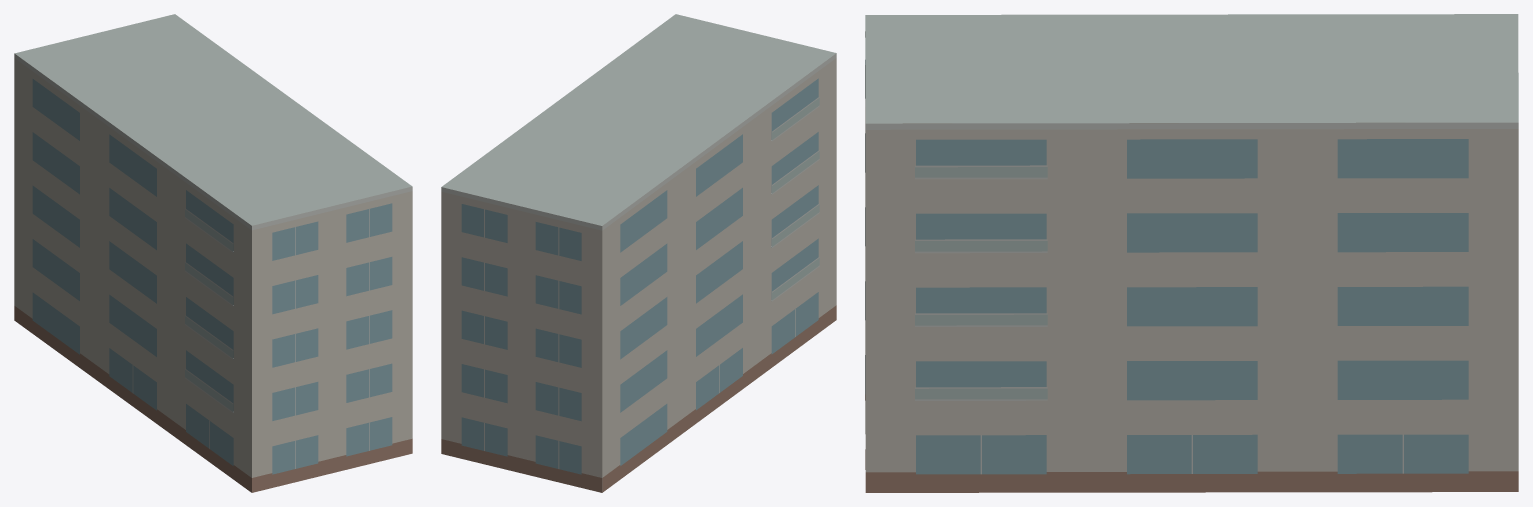
Rendered from survey-upis-32631381.glb.
3 renders of one model, left to right at view 1: azimuth 30°, elevation 25°; view 2: azimuth 150°, elevation 25°; view 3: azimuth 270°, elevation 25°, orthographic. The views are drawn at different scales.
Visible parts, largest first — view 1: survey-upis-32631381.tmp; view 2: survey-upis-32631381.tmp; view 3: survey-upis-32631381.tmp.
Part boxes in pixels (<box>): survey-upis-32631381.tmp: <box>14,14,412,492</box>; survey-upis-32631381.tmp: <box>441,14,836,492</box>; survey-upis-32631381.tmp: <box>865,14,1518,492</box>.
Bounding box in the file's own units: 9.07 × 14.2 × 22.78.
